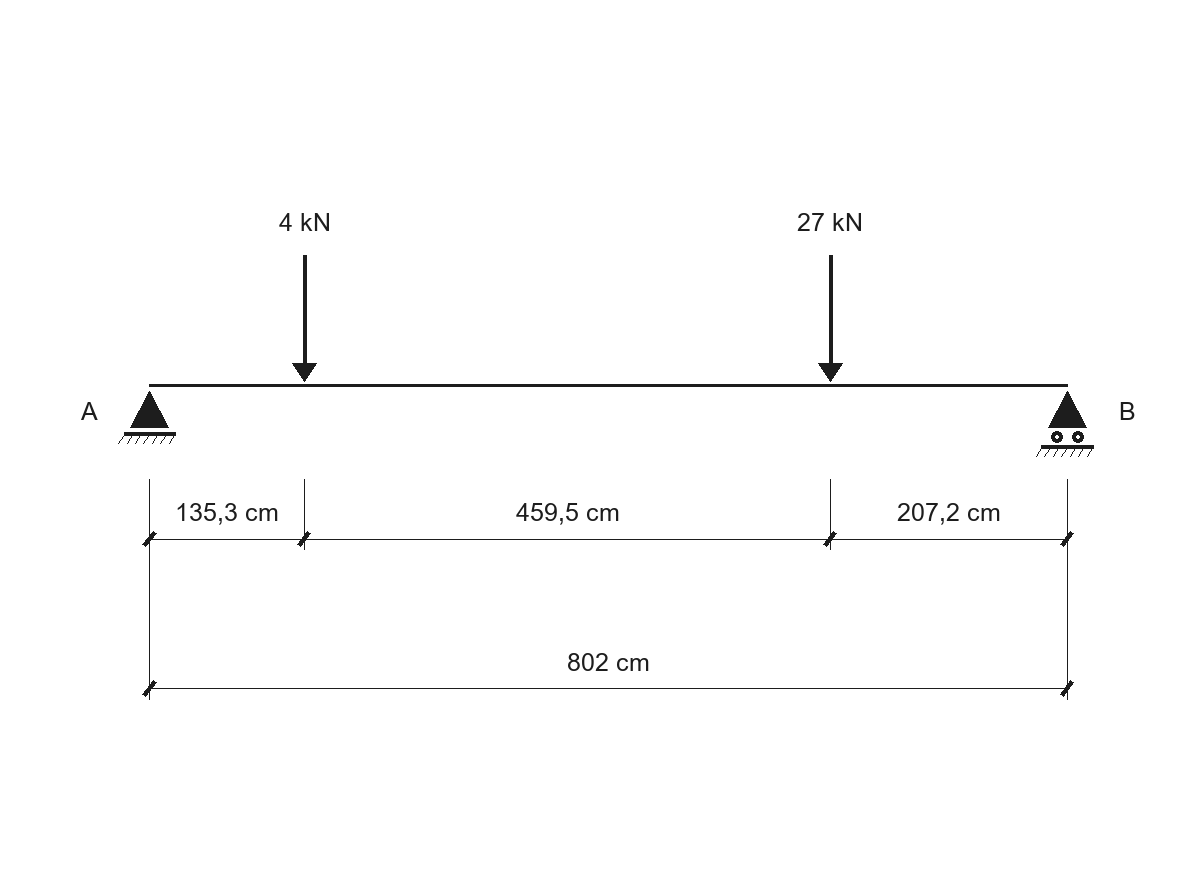pin_support: (118, 391, 176, 444)
point_load: (292, 255, 317, 382), (818, 255, 843, 382)
roller_support: (1036, 391, 1094, 457)
